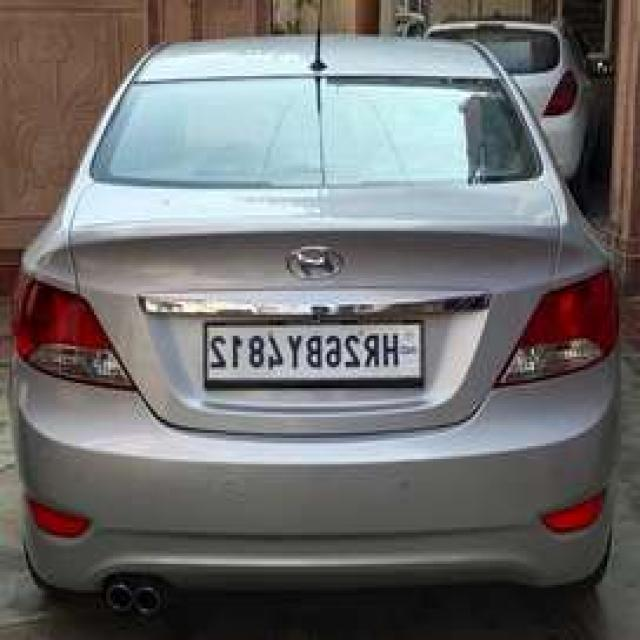license_plate: (197, 313, 430, 398)
